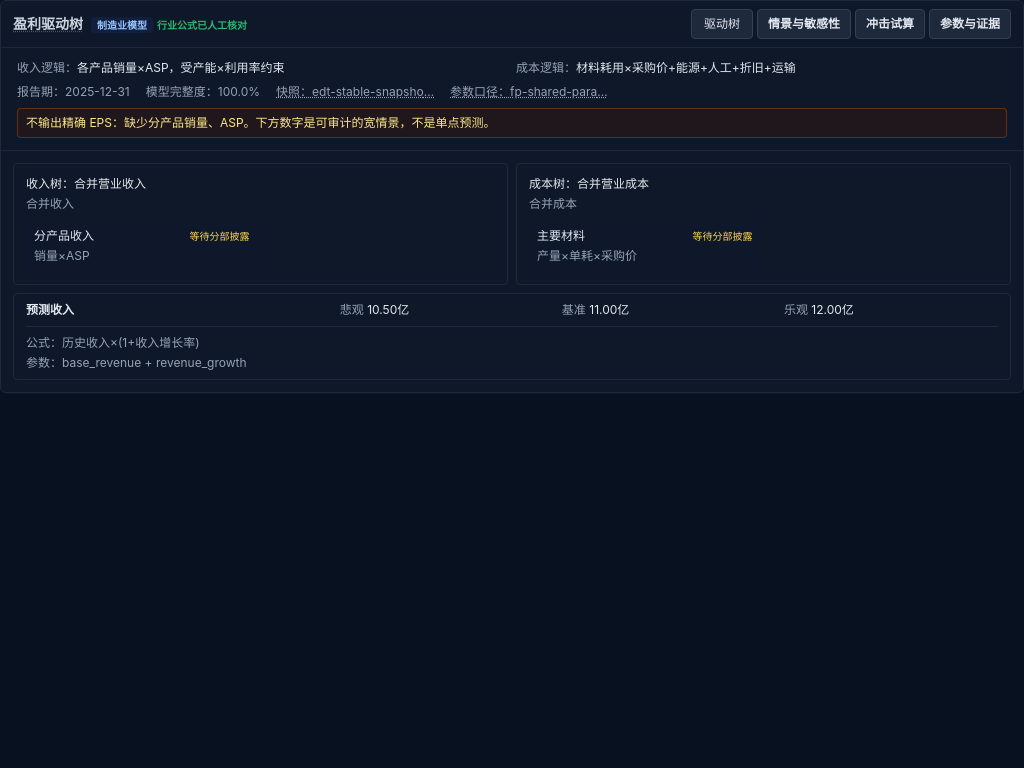
Test: 盈利驱动树 › 支持情景、Monte Carlo、反向求解与分页证据下钻
Expected: the text "制造业模型" is shown, [91,16,153,32]
Click the button "情景与敏感性".
click(804, 24)  # box [757,9,851,39]
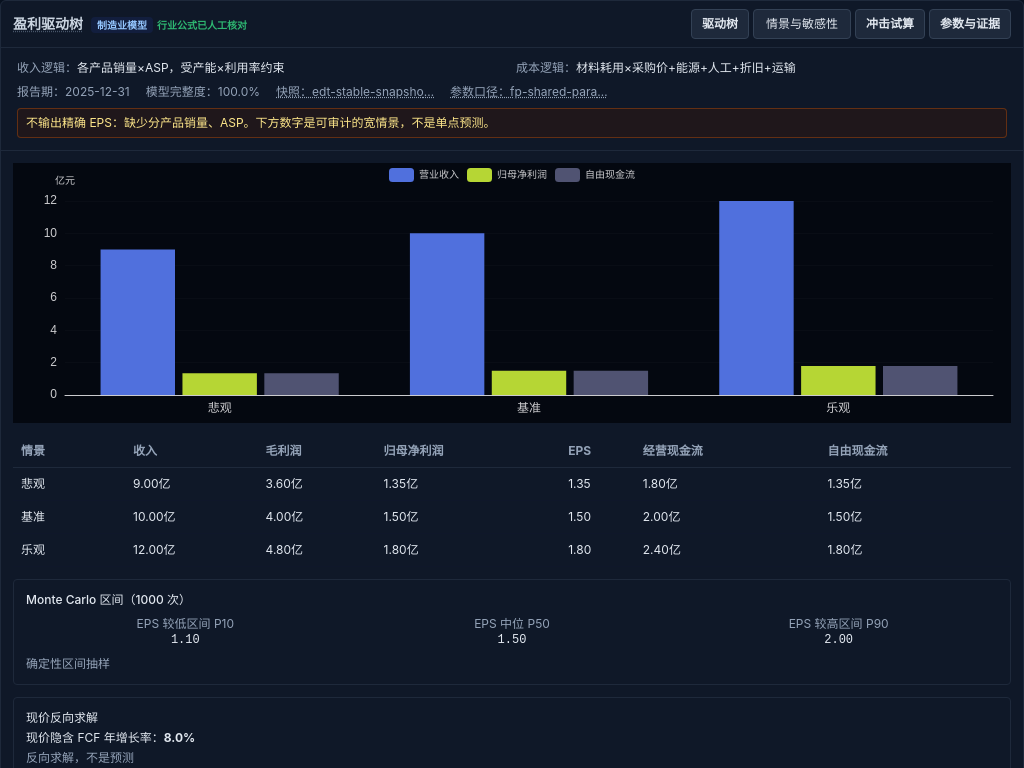
Result: the text "Monte Carlo 区间（1000 次）" is shown at [26,592,191,607]
Result: the text "现价反向求解" is shown at [26,710,98,725]
Click the button "参数与证据".
click(970, 24)  # box [929,9,1011,39]
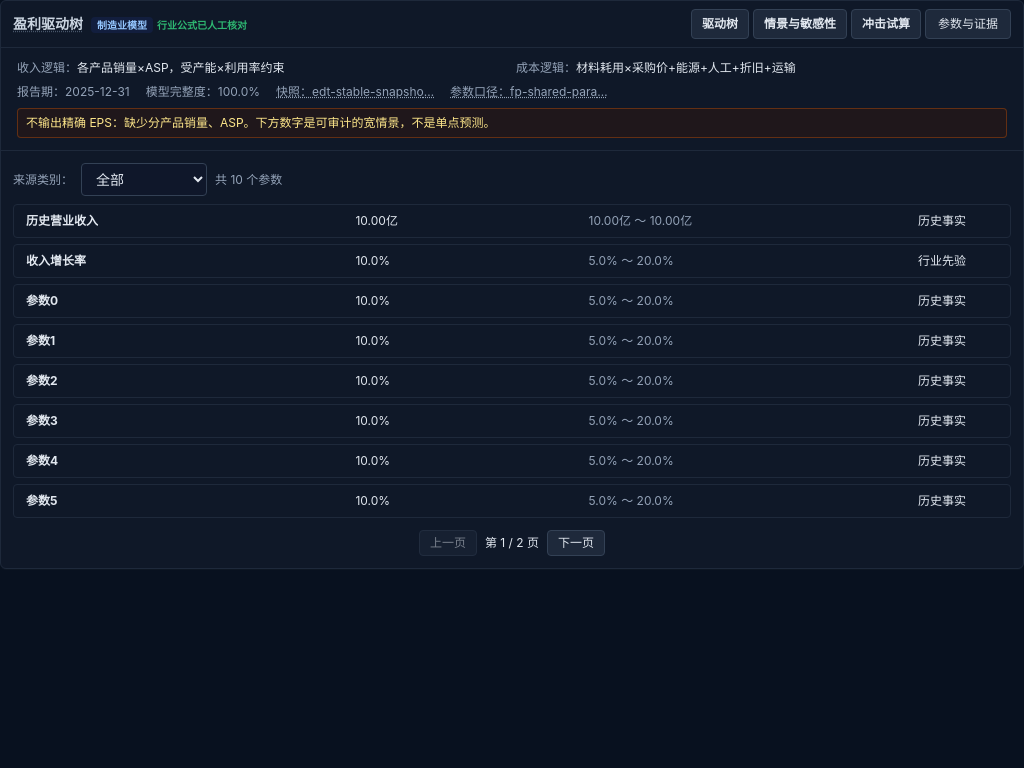
Result: the text "第 1 / 2 页" is shown at [485,535,539,551]
Click the button "下一页".
click(576, 543)  # box [547,530,605,556]
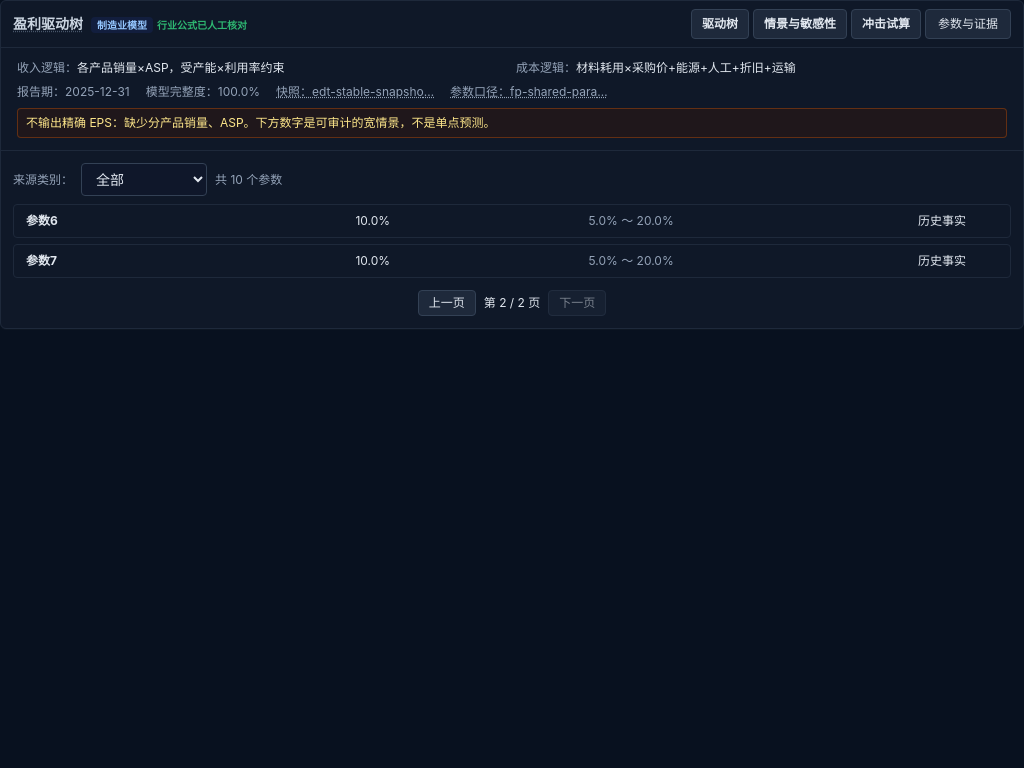
Result: the text "第 2 / 2 页" is shown at [484,295,540,311]
